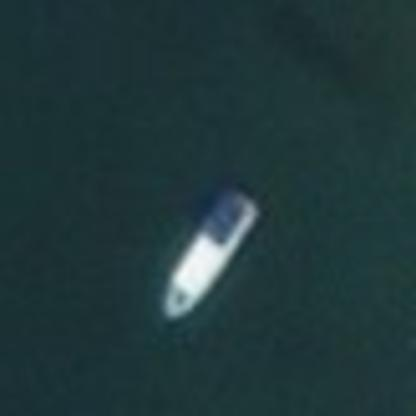ship: (154, 174, 270, 330)
